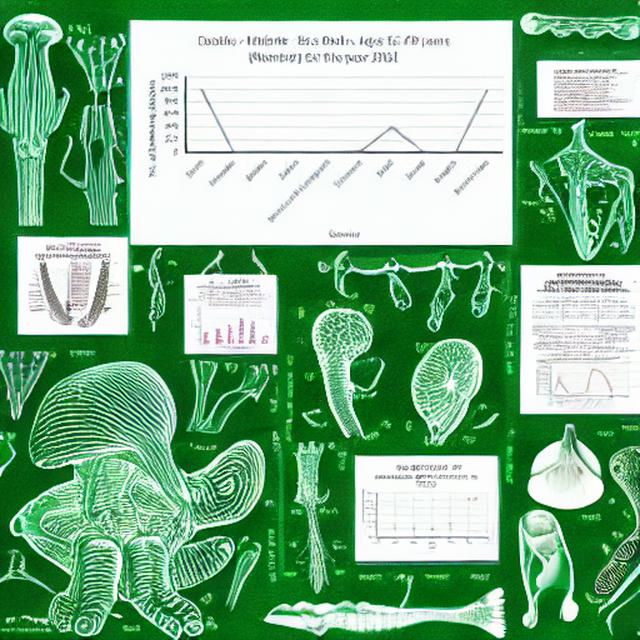Graph: (141, 27, 510, 242), (358, 471, 494, 553), (534, 360, 617, 409), (189, 303, 273, 350)
